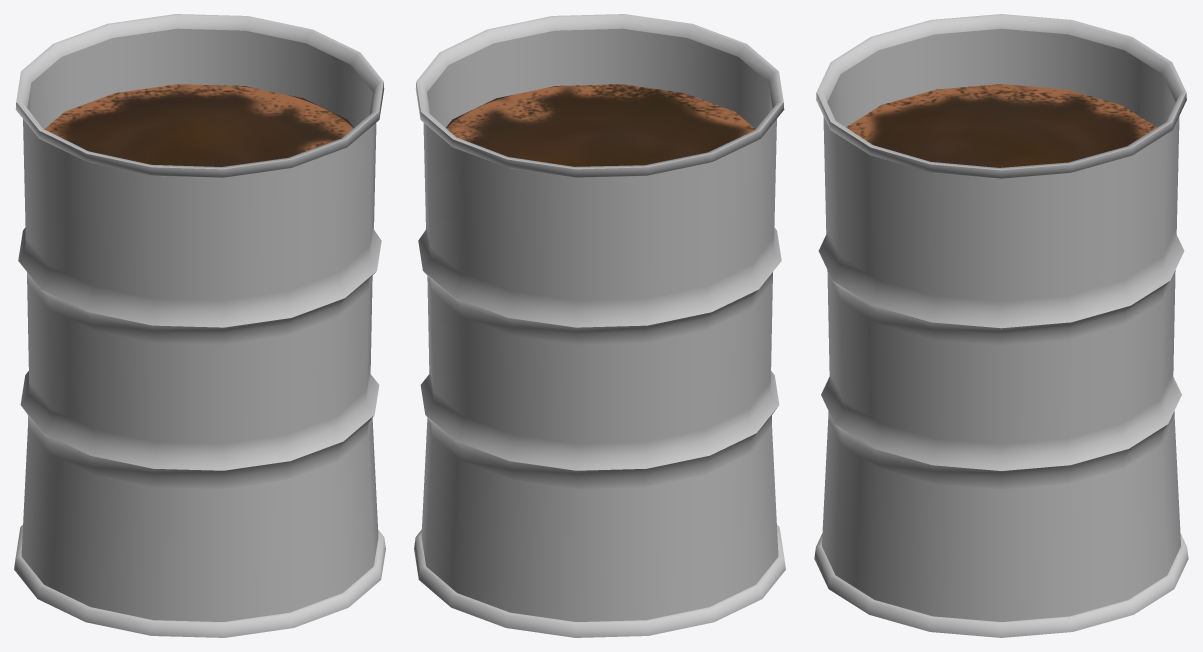
Rendered from barrel_opened_LOD1_UV.fbx.
The picture shows the model from 3 angles, left to right: view 1: azimuth 30°, elevation 25°; view 2: azimuth 150°, elevation 25°; view 3: azimuth 270°, elevation 25°; orthographic projection.
Parts seen in each view (by area): view 1: barrel, Disc; view 2: barrel, Disc; view 3: barrel, Disc.
Part boxes in pixels (left/top/right/bottom): barrel: left=14, top=14, right=385, bottom=637; Disc: left=44, top=84, right=353, bottom=166; barrel: left=414, top=14, right=785, bottom=637; Disc: left=446, top=84, right=755, bottom=166; barrel: left=814, top=14, right=1188, bottom=637; Disc: left=846, top=84, right=1156, bottom=167.
Bounding box in the file's own units: 105 × 144 × 105.
